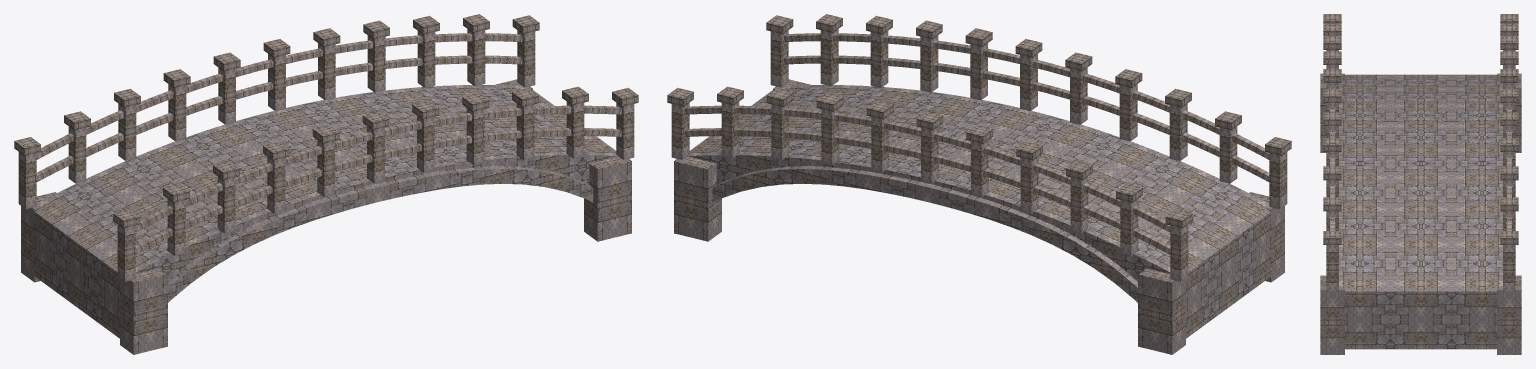
File: bridge_low.glb
3 renders of one model, left to right at view 1: azimuth 30°, elevation 25°; view 2: azimuth 150°, elevation 25°; view 3: azimuth 270°, elevation 25°, orthographic. The views are drawn at different scales.
Parts seen in each view (by area): view 1: bridge_low_canal_stone; view 2: bridge_low_canal_stone; view 3: bridge_low_canal_stone.
Boxes of the visible parts, <box> form: bridge_low_canal_stone: <box>14,14,638,354</box>; bridge_low_canal_stone: <box>667,14,1291,354</box>; bridge_low_canal_stone: <box>1320,14,1521,354</box>.
Size of the model in its own units: 8.68 by 2.77 by 3.29.
Materials: 1 (1 with a texture image).
